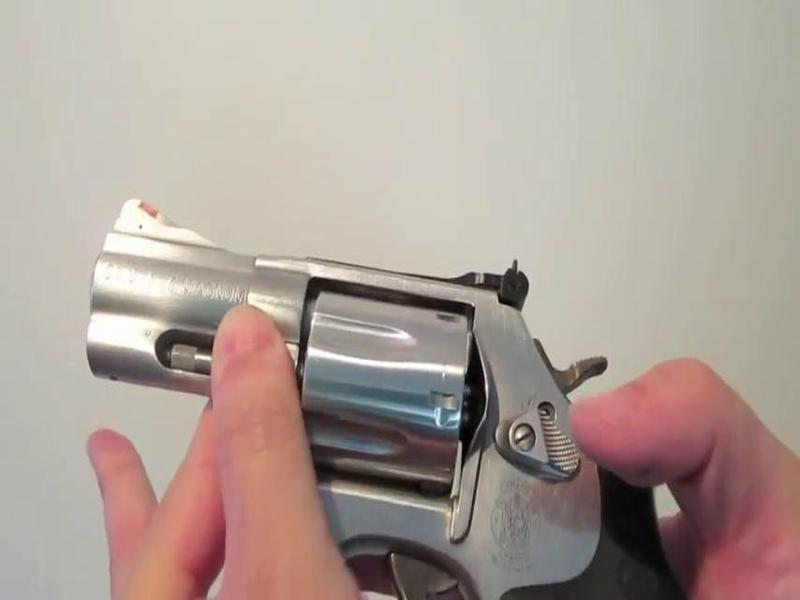Revolver: (47, 155, 626, 600)
